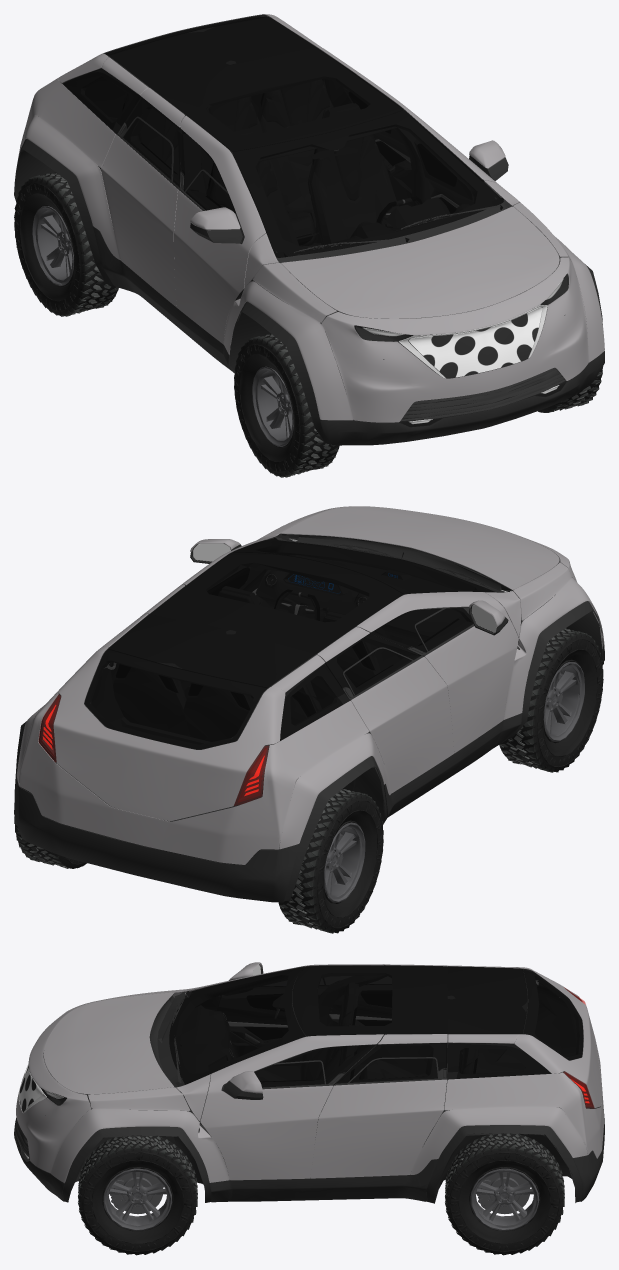
File: concept-suv.glb
3 renders of one model, top to bottom at view 1: azimuth 30°, elevation 25°; view 2: azimuth 150°, elevation 25°; view 3: azimuth 270°, elevation 25°, orthographic. The views are drawn at different scales.
Visible parts, largest first — view 1: Body, wheel-rear-right-mesh, wheel-front-right-mesh, wheel-front-left-mesh; view 2: Body, wheel-rear-right-mesh, wheel-front-right-mesh, wheel-rear-left-mesh; view 3: Body, wheel-rear-left-mesh, wheel-front-left-mesh.
Boxes of the visible parts, bbox=[...] form: Body: bbox=[14, 14, 604, 445]; wheel-rear-right-mesh: bbox=[14, 172, 118, 316]; wheel-front-right-mesh: bbox=[234, 334, 339, 477]; wheel-front-left-mesh: bbox=[538, 366, 603, 412]; Body: bbox=[14, 506, 604, 902]; wheel-rear-right-mesh: bbox=[278, 789, 383, 933]; wheel-front-right-mesh: bbox=[499, 628, 603, 772]; wheel-rear-left-mesh: bbox=[14, 816, 86, 868]; Body: bbox=[14, 962, 604, 1203]; wheel-rear-left-mesh: bbox=[445, 1133, 564, 1255]; wheel-front-left-mesh: bbox=[78, 1136, 197, 1255].
Bounding box in the file's own units: 1.4 × 1.04 × 2.8.
20 materials, 2 textured.
